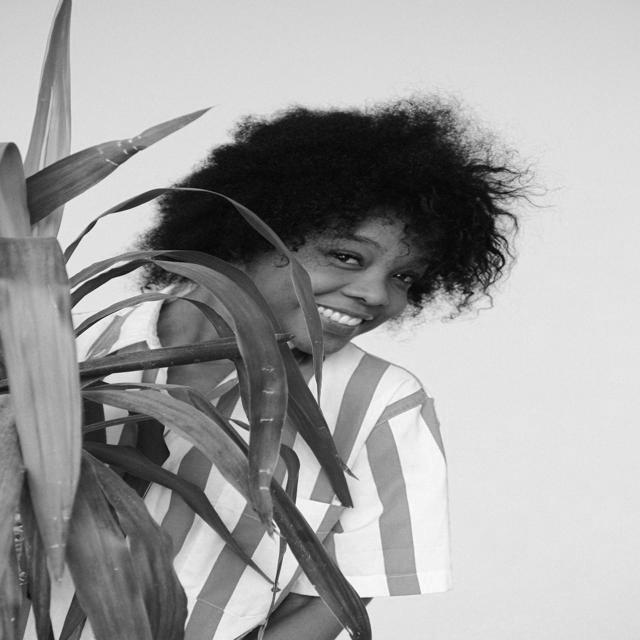Happiness: (276, 205, 432, 362)
